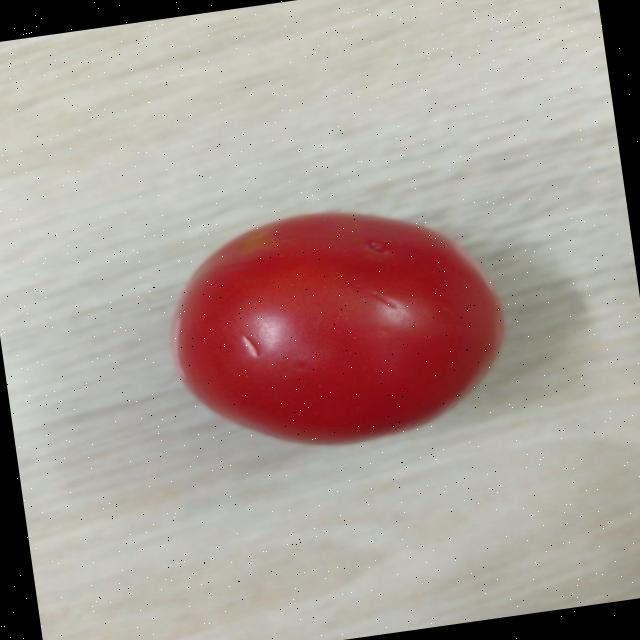Ripe: (150, 186, 521, 470)
